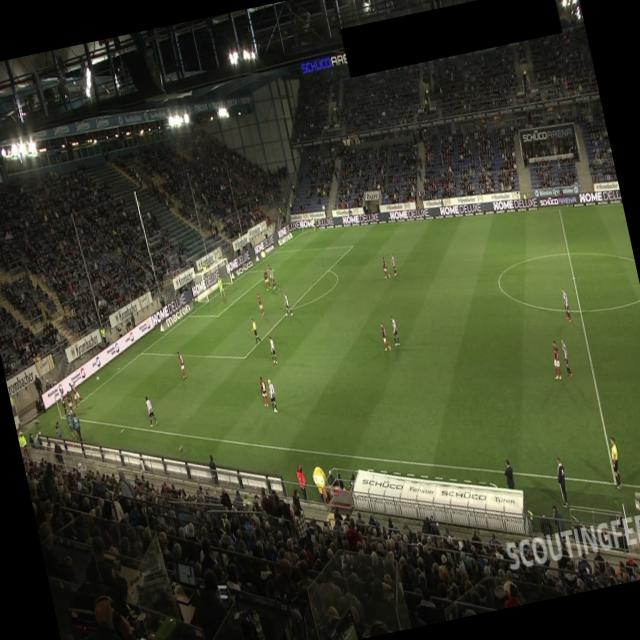goalkeeper: (216, 275, 227, 299)
player: (547, 339, 564, 380), (558, 338, 572, 377), (266, 376, 280, 414), (143, 394, 158, 427), (68, 379, 85, 408), (559, 286, 572, 321), (378, 320, 391, 352), (258, 375, 270, 408), (388, 314, 400, 346), (248, 316, 261, 344), (266, 334, 278, 364), (64, 389, 76, 418), (176, 349, 187, 379), (58, 387, 69, 416), (261, 268, 272, 292), (282, 291, 292, 316), (267, 264, 277, 288), (389, 251, 398, 276), (380, 256, 390, 278), (256, 292, 265, 316)
referee: (605, 436, 625, 490)
